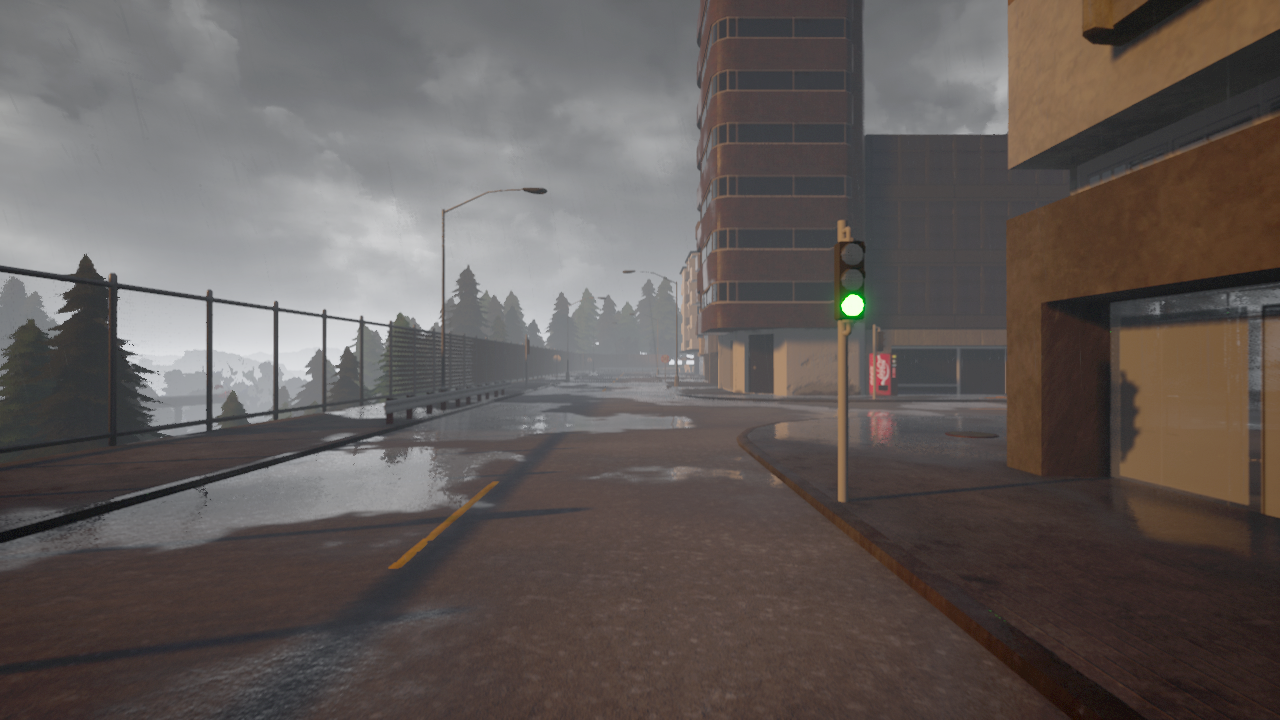green: (832, 237, 864, 322)
